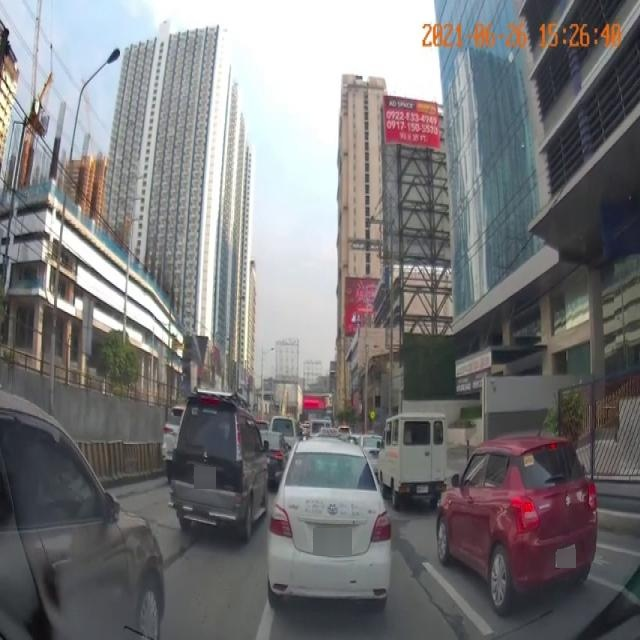car: (0, 395, 169, 633), (440, 433, 602, 610), (264, 436, 392, 612), (172, 396, 273, 538), (373, 412, 451, 519)
